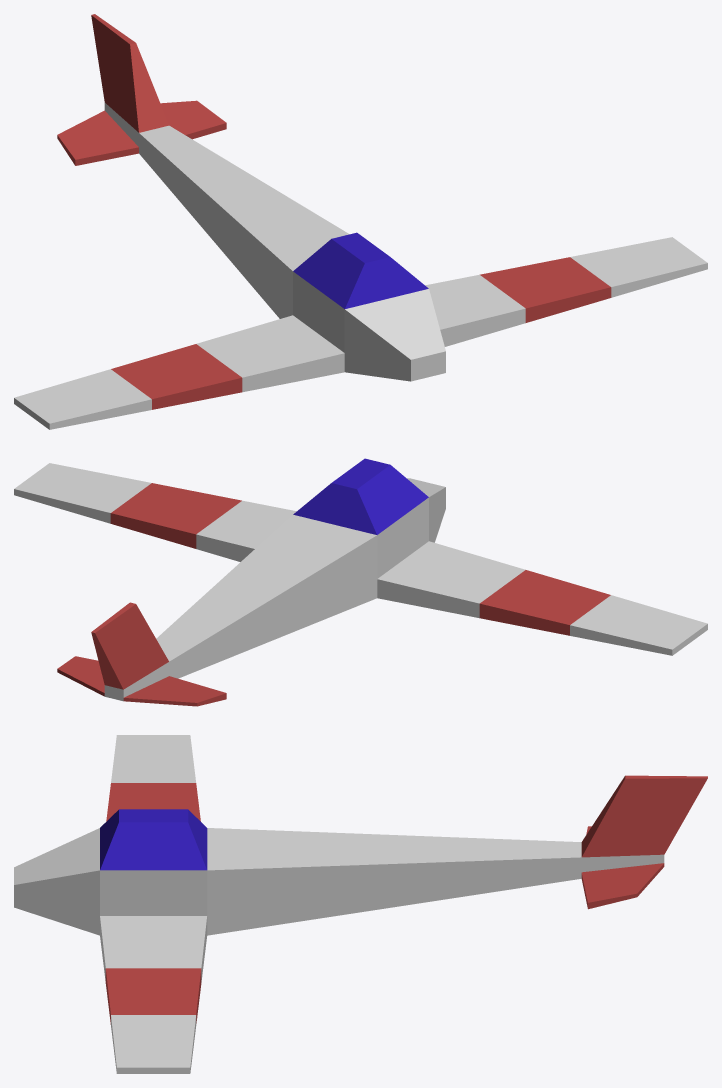
File: airplane.gltf
3 views of the same model, one above another, from view 1: azimuth 30°, elevation 25°; view 2: azimuth 150°, elevation 25°; view 3: azimuth 270°, elevation 25° (orthographic). The views are drawn at different scales.
Visible parts, largest first — view 1: Low Poly Airplane; view 2: Low Poly Airplane; view 3: Low Poly Airplane.
Part boxes in pixels (<box>): Low Poly Airplane: <box>14,14,707,429</box>; Low Poly Airplane: <box>14,458,707,706</box>; Low Poly Airplane: <box>14,735,707,1073</box>.
Size of the model in its own units: 0.5126 by 0.0987 by 0.4522.
